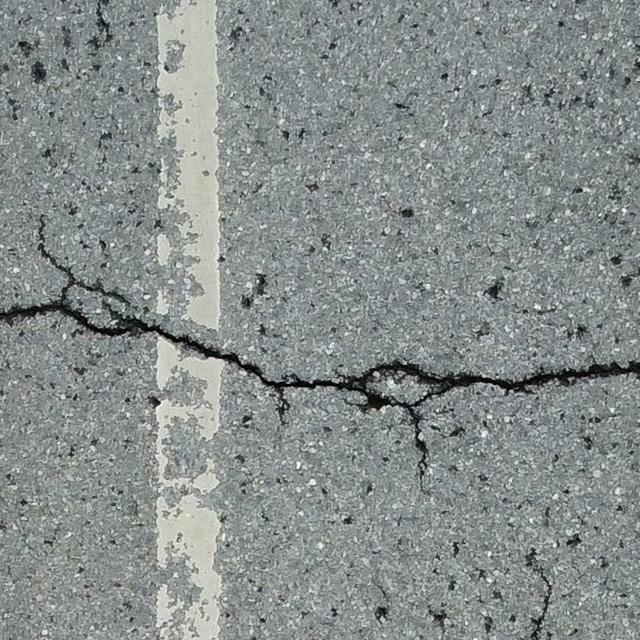TransverseCrack: (1, 219, 638, 475)
